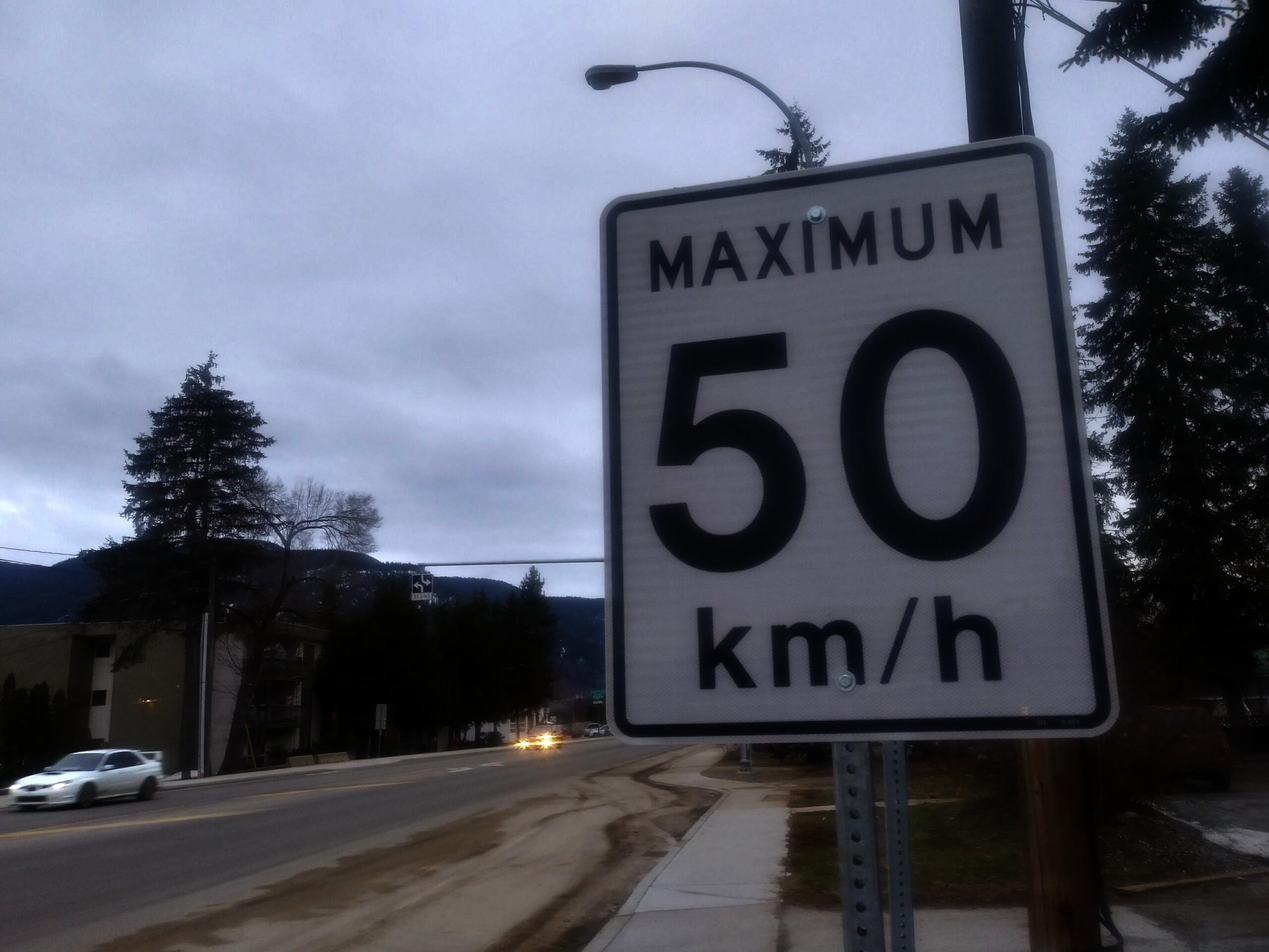speed limit sign: (621, 130, 1112, 745)
